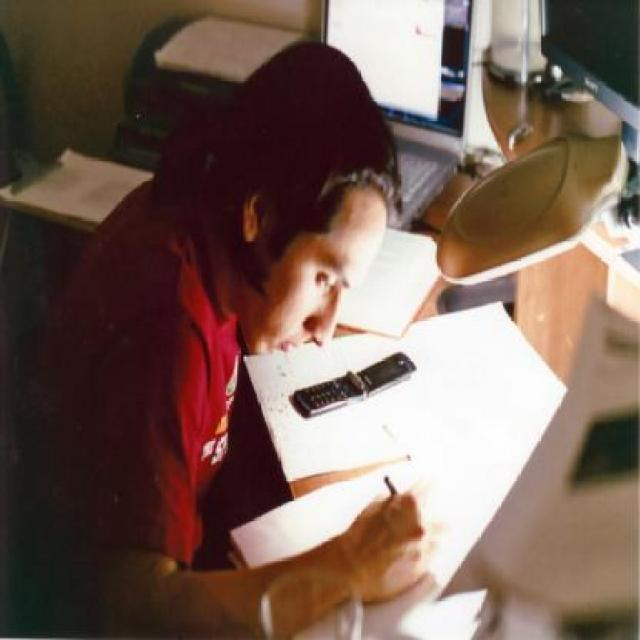phone: (290, 325, 413, 433)
